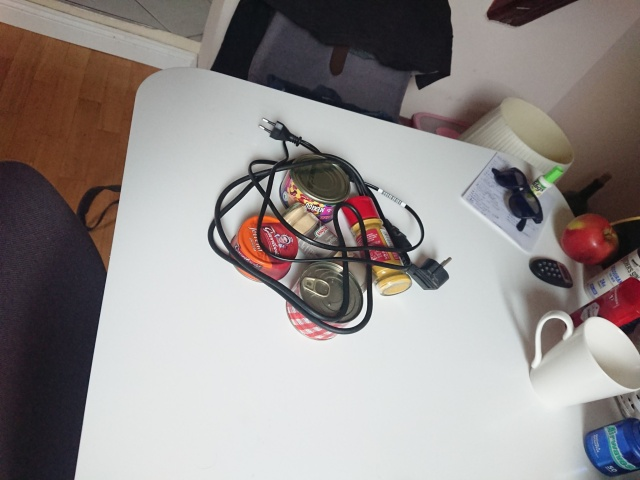Gavrilovic Pork Liver Pate 100g: (227, 213, 300, 284)
Giana Tuna Salad Mexico 185g: (276, 152, 353, 229)
Kotanyi Curry Spices Mix 70g: (338, 194, 414, 298)
Kotanyi Garlic Granules 70g: (273, 200, 380, 303)
Podravka Luncheon Meat 150g: (284, 259, 365, 343)
